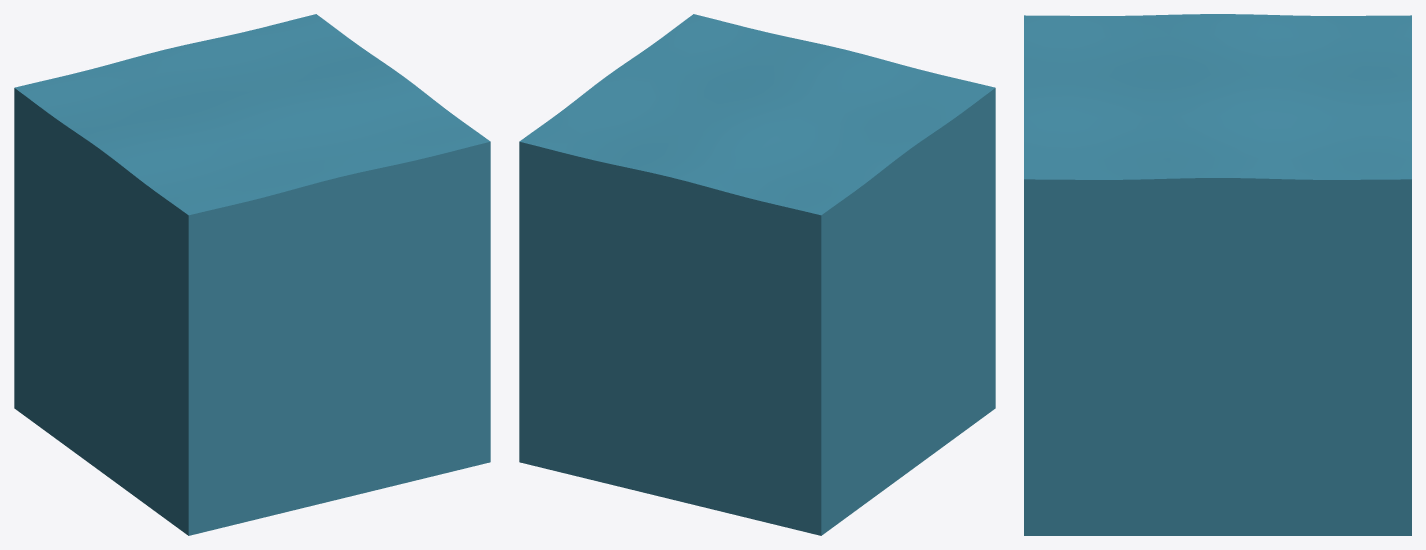
Rendered from slpool_wave11.glb.
The picture shows the model from 3 angles, left to right: view 1: azimuth 30°, elevation 25°; view 2: azimuth 150°, elevation 25°; view 3: azimuth 270°, elevation 25°; orthographic projection. The views are drawn at different scales.
Parts seen in each view (by area): view 1: poolWater; view 2: poolWater; view 3: poolWater.
Part boxes in pixels (left/top/right/bottom): poolWater: left=14, top=14, right=490, bottom=535; poolWater: left=519, top=14, right=995, bottom=535; poolWater: left=1024, top=14, right=1411, bottom=535.
Size of the model in its own units: 2 by 2.05 by 2.
